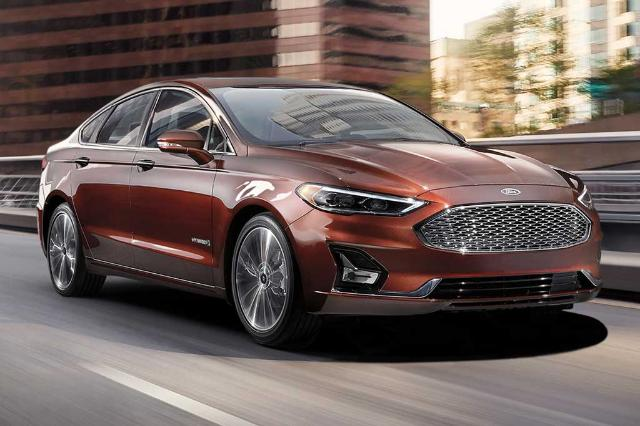ford: (36, 77, 604, 347)
